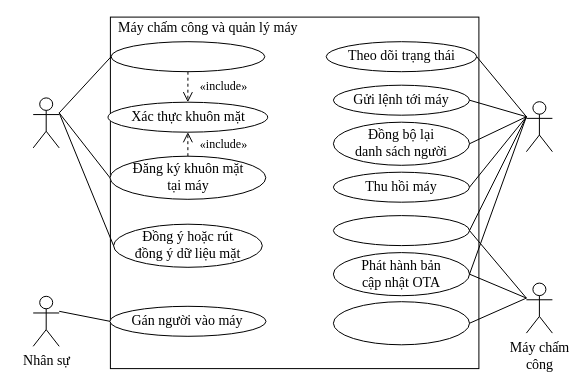
The diagram is 587 pixels wide and 392 high, and some of its shapes have lost their labels. The centre of each missing label's shape, as x and y in pixels:
"Chấm công tại máy" goes at (187,56).
"Duyệt máy mới" goes at (401,230).
"Gửi lượt chấm, nhịp sống" goes at (401,323).
"Nhân viên" goes at (45,122).
"Quản trị" goes at (538,126).
